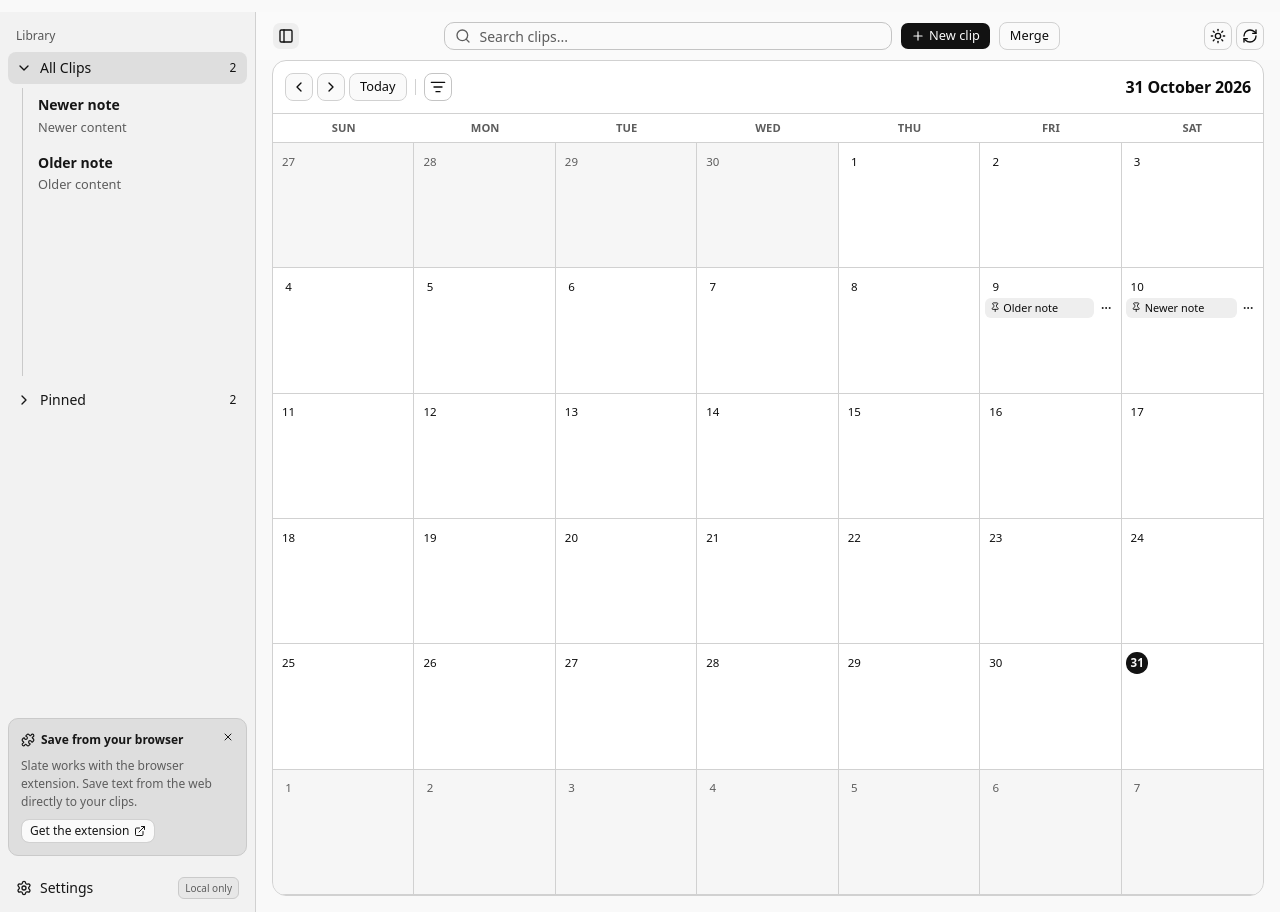
Merge sends the user selection order rather than sorting titles by library order
Expected: the button with aria-label "Open Newer note" is shown, [1126,298,1237,318]
Click the button "Merge".
click(1029, 36)  # box [999,22,1060,50]
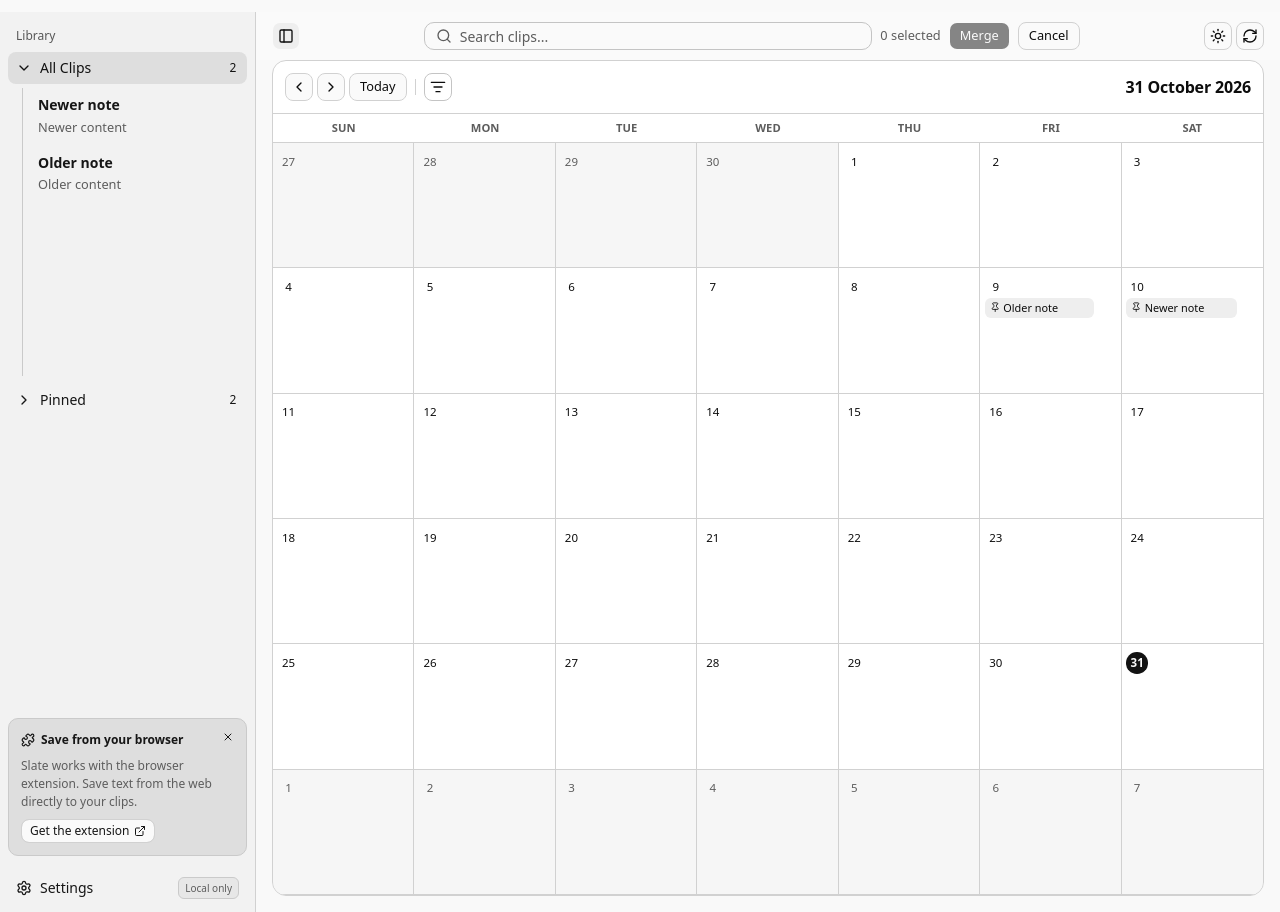
Click the button "Older note".
click(1040, 308)  # box [985,298,1094,318]
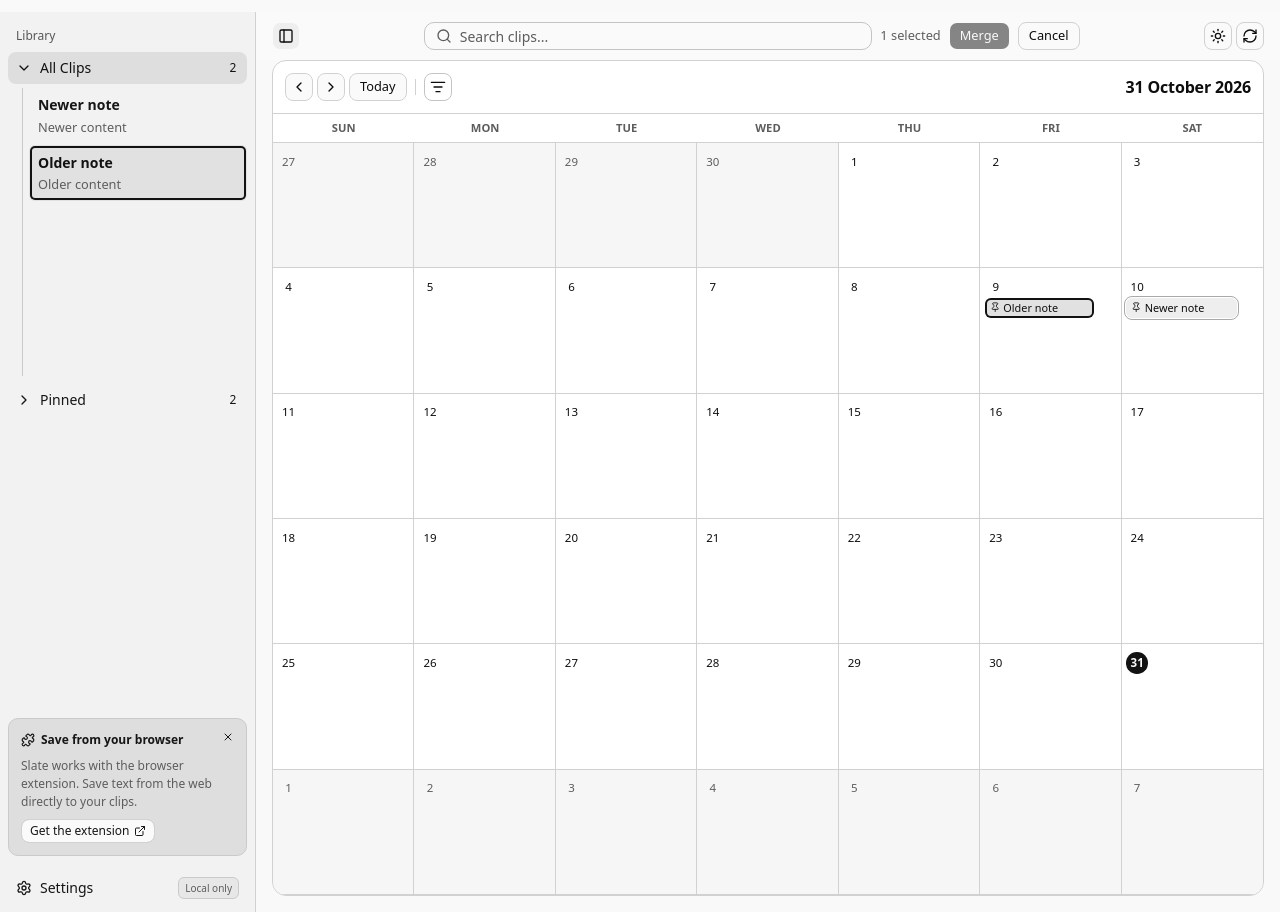
Click the button "Newer note".
click(1182, 308)  # box [1126,298,1237,318]
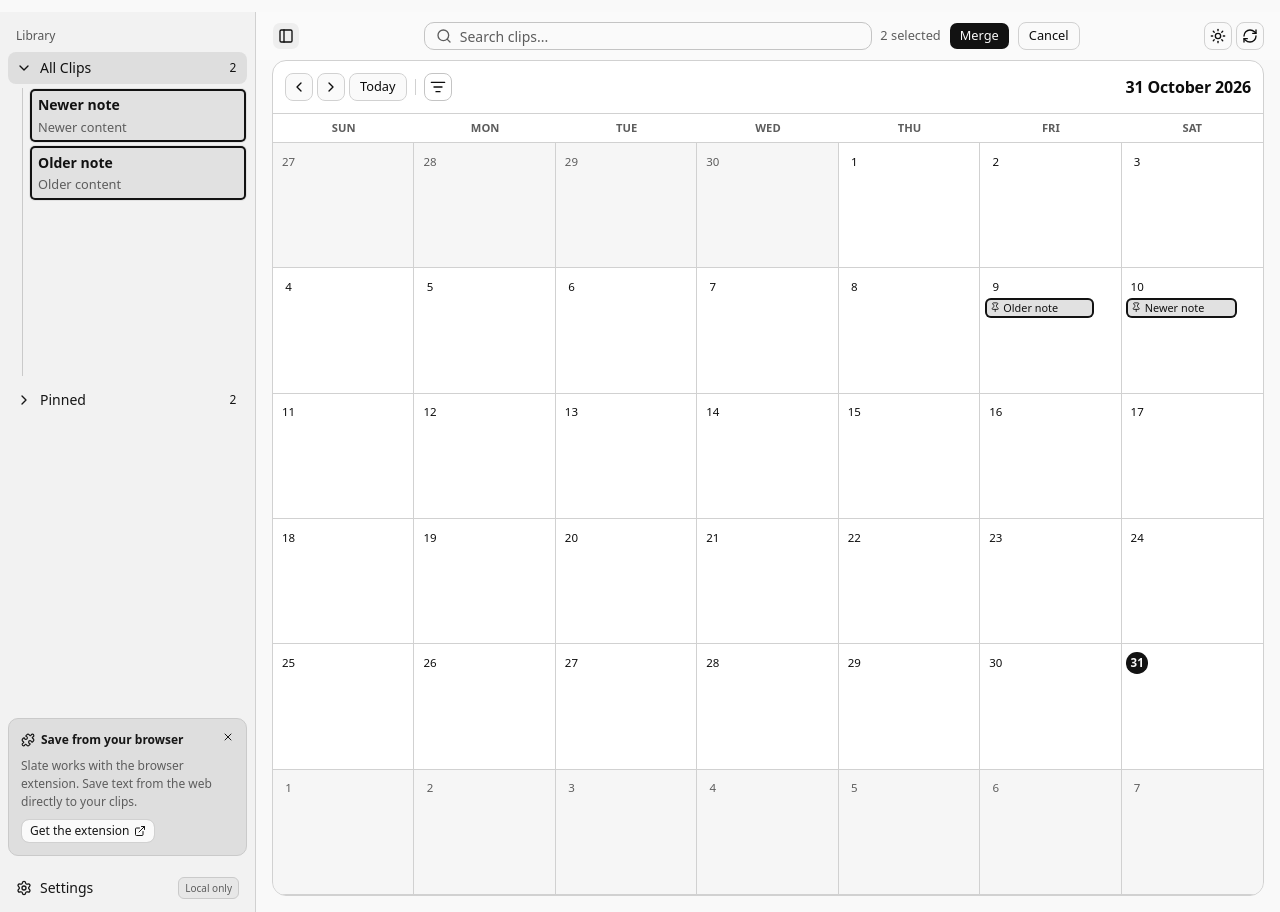
Click the button with aria-label "Merge selected".
click(979, 36)  # box [949,22,1010,50]
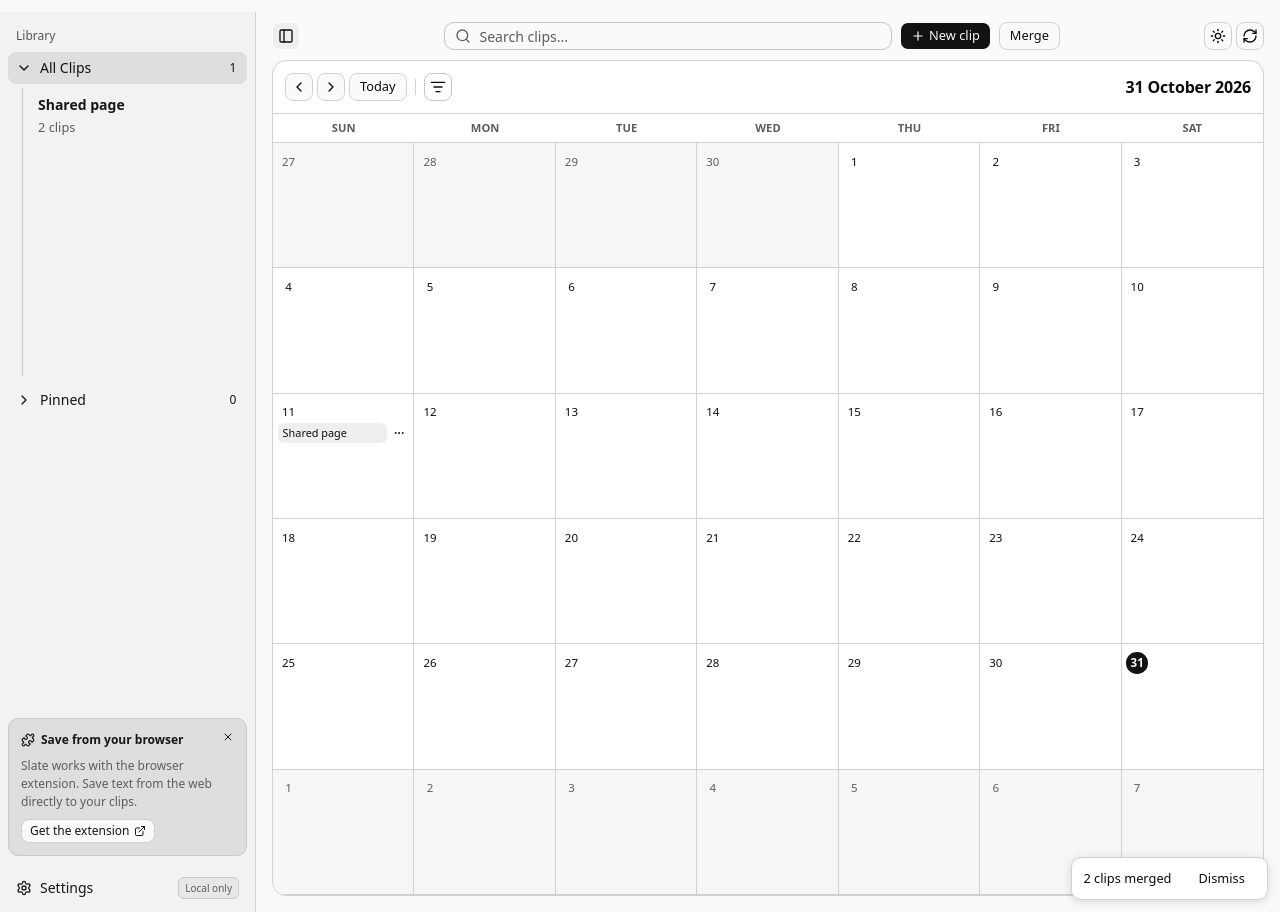
Result: the text "2 clips merged" is shown at [1084,869,1172,887]
Result: the button with aria-label "Open Shared page" is shown at [278,423,387,443]
